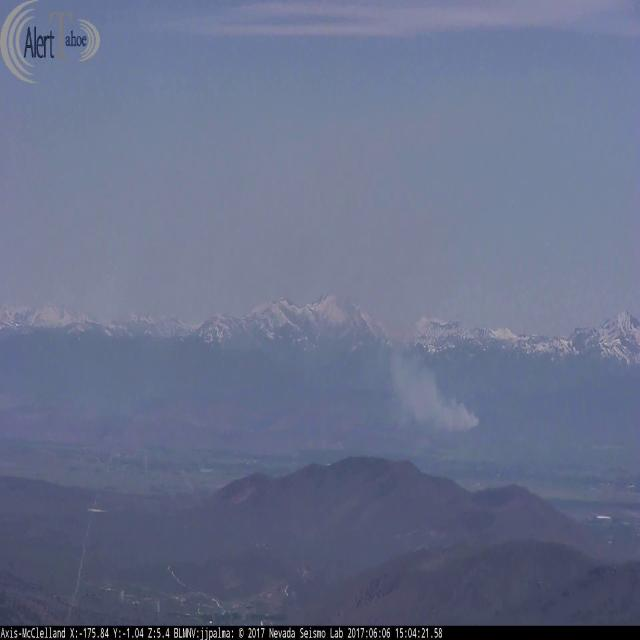smoke: (371, 311, 488, 440)
